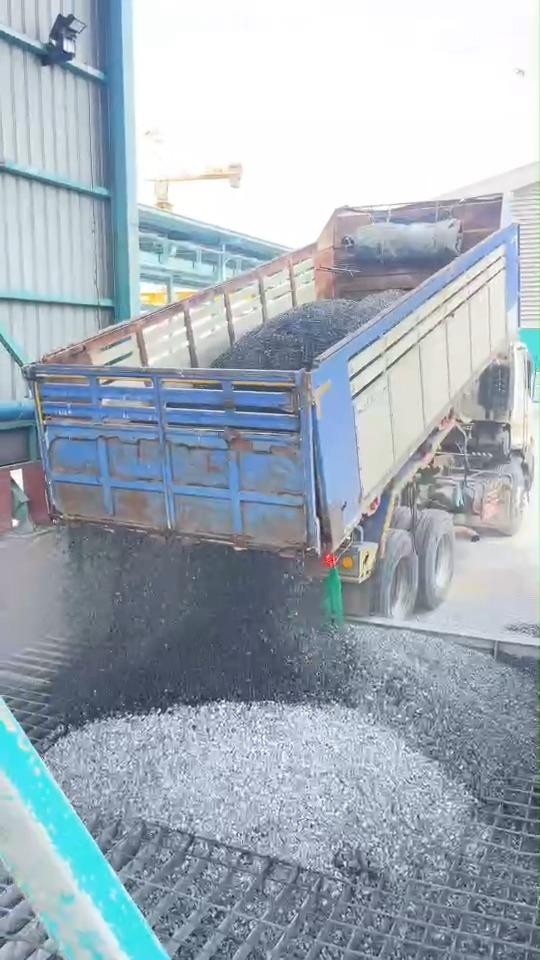gravel: (47, 705, 473, 879), (55, 526, 346, 725), (306, 625, 537, 798), (213, 290, 402, 369), (330, 665, 333, 673)
